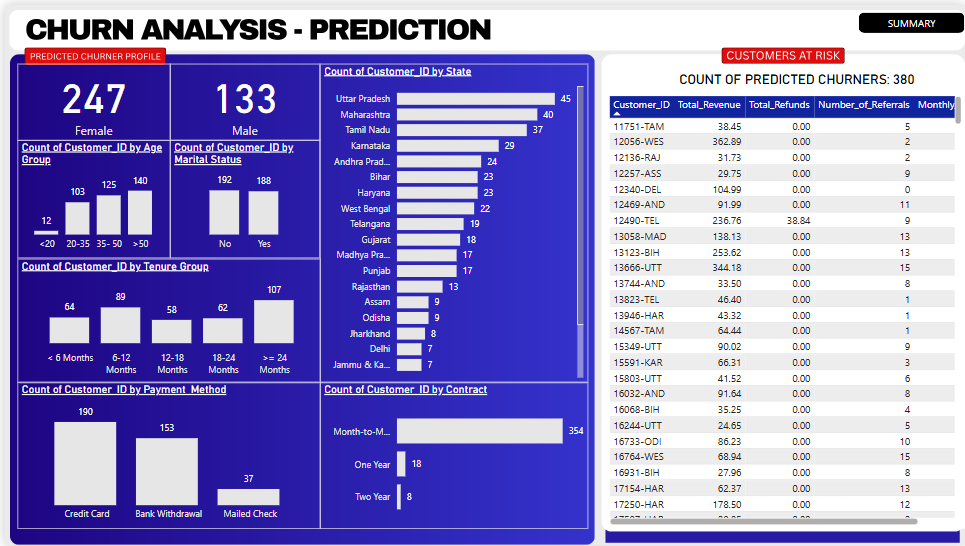

The page's visual inventory and layout, read from the dashboard file:
{"tool":"powerbi","page":{"name":"Churn Prediction","canvas":[1280,720],"ordinal":2},"visuals":[{"type":"tableEx","fields":{"Values":["Sheet1.Customer_ID","Sheet1.Total_Revenue","Sheet1.Total_Refunds","Sheet1.Number_of_Referrals","Sheet1.Monthly_Charge"]},"box":[800,116.2,480,581.5],"z":0},{"type":"card","fields":{"Values":["tbl_Measures.Title Predicted Churner"]},"box":[850.8,60,412.3,80],"z":1000},{"type":"card","fields":{"Values":["tbl_Measures.Count Predicted Churner"]},"box":[220,77.5,200,102.5],"z":2000},{"type":"clusteredColumnChart","fields":{"Category":["mapping_AgeGrp.Age Group"],"Y":["CountNonNull(Sheet1.Customer_ID)"]},"box":[16.2,180,203.8,157.5],"z":3000},{"type":"clusteredColumnChart","fields":{"Category":["Sheet1.Married"],"Y":["CountNonNull(Sheet1.Customer_ID)"]},"box":[220,180,200,157.5],"z":4000},{"type":"clusteredColumnChart","fields":{"Y":["CountNonNull(Sheet1.Customer_ID)"],"Category":["mapping_TenureGrp.Tenure Group"]},"box":[16.2,337.5,403.8,165],"z":5000},{"type":"clusteredColumnChart","fields":{"Y":["CountNonNull(Sheet1.Customer_ID)"],"Category":["mapping_TenureGrp.Payment_Method"]},"box":[16.2,502.5,403.8,195],"z":6000},{"type":"clusteredBarChart","fields":{"Category":["mapping_TenureGrp.Contract"],"Y":["CountNonNull(Sheet1.Customer_ID)"]},"box":[420,502.5,357.5,195],"z":7000},{"type":"clusteredBarChart","fields":{"Category":["mapping_TenureGrp.State"],"Y":["CountNonNull(Sheet1.Customer_ID)"]},"box":[420,77.5,357.5,425],"z":8000},{"type":"card","fields":{"Values":["tbl_Measures.Count Predicted Churner"]},"box":[16.2,77.5,203.8,102.5],"z":9000},{"type":"shape","box":[1139.1,10,140.9,27.3],"z":9001}]}

Visuals, with their boxes in screenshot pixels (x1, y1, x2, y2), scaled from the page's 1280x720 canvas onto the 965x546 screenshot:
tableEx - Sheet1.Customer_ID x Sheet1.Total_Revenue: (left=603, top=88, right=964, bottom=529)
card - tbl_Measures.Title Predicted Churner: (left=641, top=46, right=952, bottom=106)
card - tbl_Measures.Count Predicted Churner: (left=166, top=59, right=317, bottom=136)
clusteredColumnChart - mapping_AgeGrp.Age Group x CountNonNull(Sheet1.Customer_ID): (left=12, top=136, right=166, bottom=256)
clusteredColumnChart - Sheet1.Married x CountNonNull(Sheet1.Customer_ID): (left=166, top=136, right=317, bottom=256)
clusteredColumnChart - CountNonNull(Sheet1.Customer_ID) x mapping_TenureGrp.Tenure Group: (left=12, top=256, right=317, bottom=381)
clusteredColumnChart - CountNonNull(Sheet1.Customer_ID) x mapping_TenureGrp.Payment_Method: (left=12, top=381, right=317, bottom=529)
clusteredBarChart - mapping_TenureGrp.Contract x CountNonNull(Sheet1.Customer_ID): (left=317, top=381, right=586, bottom=529)
clusteredBarChart - mapping_TenureGrp.State x CountNonNull(Sheet1.Customer_ID): (left=317, top=59, right=586, bottom=381)
card - tbl_Measures.Count Predicted Churner: (left=12, top=59, right=166, bottom=136)
shape: (left=859, top=8, right=964, bottom=28)
